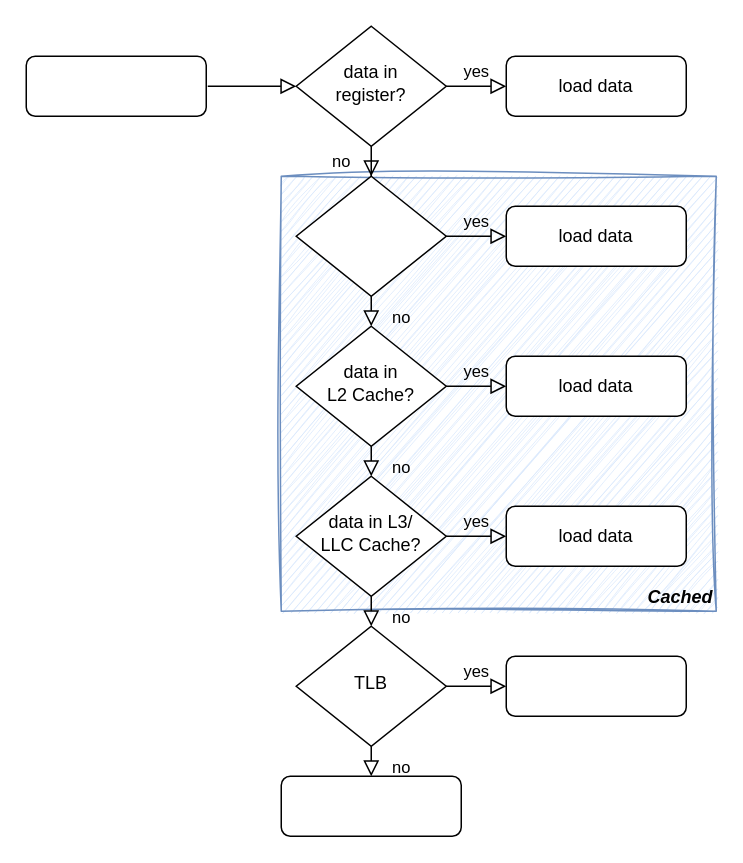
This 743x863 diagram has some shape labels left out. The shapes that lost their labels are listed below. From the top down, each one's centre as x and y in pixels, then its label:
At pixel 115 85: "CPU requests data".
At pixel 370 235: "data in L1 Cache?".
At pixel 595 685: "load data in Cache".
At pixel 370 805: "request PMH".
